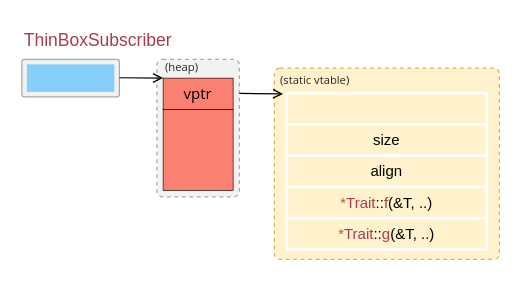
This 521x281 diagram has some shape labels left out. Each missing label, with the centre of its shape:
"* Drop :: drop (&mut T)" goes at [386,108].
"ptr 2/4/8" goes at [70,77].
"← T →" goes at [197,149].
